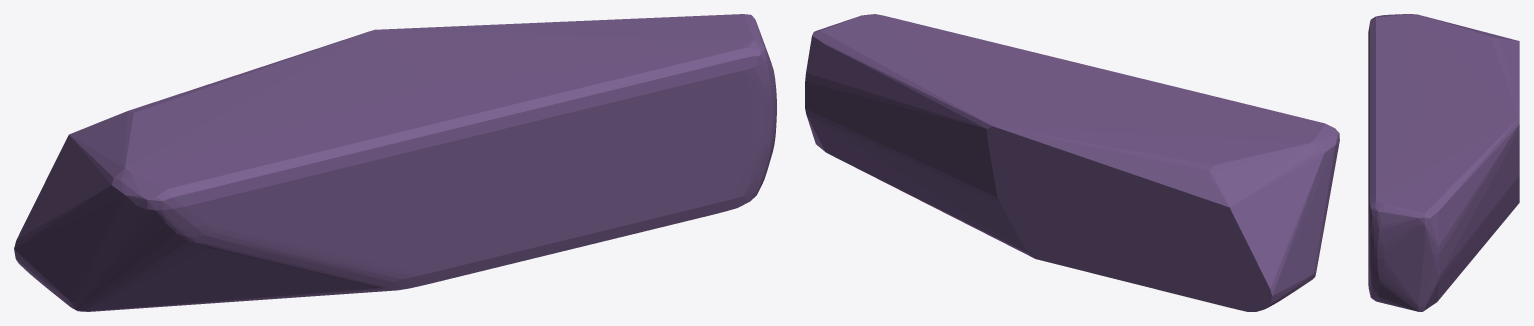
File: right-tarsus-0_part_1.obj
3 renders of one model, left to right at view 1: azimuth 30°, elevation 25°; view 2: azimuth 150°, elevation 25°; view 3: azimuth 270°, elevation 25°, orthographic. The views are drawn at different scales.
Size of the model in its own units: 0.1139 by 0.0261 by 0.0346.
